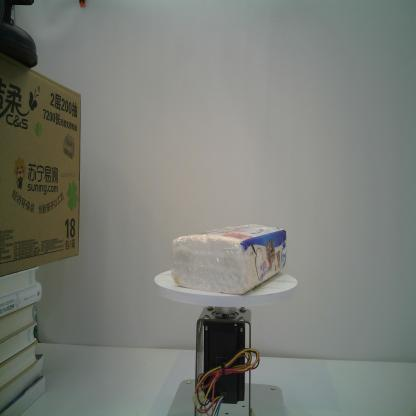Tissue: (167, 220, 288, 295)
